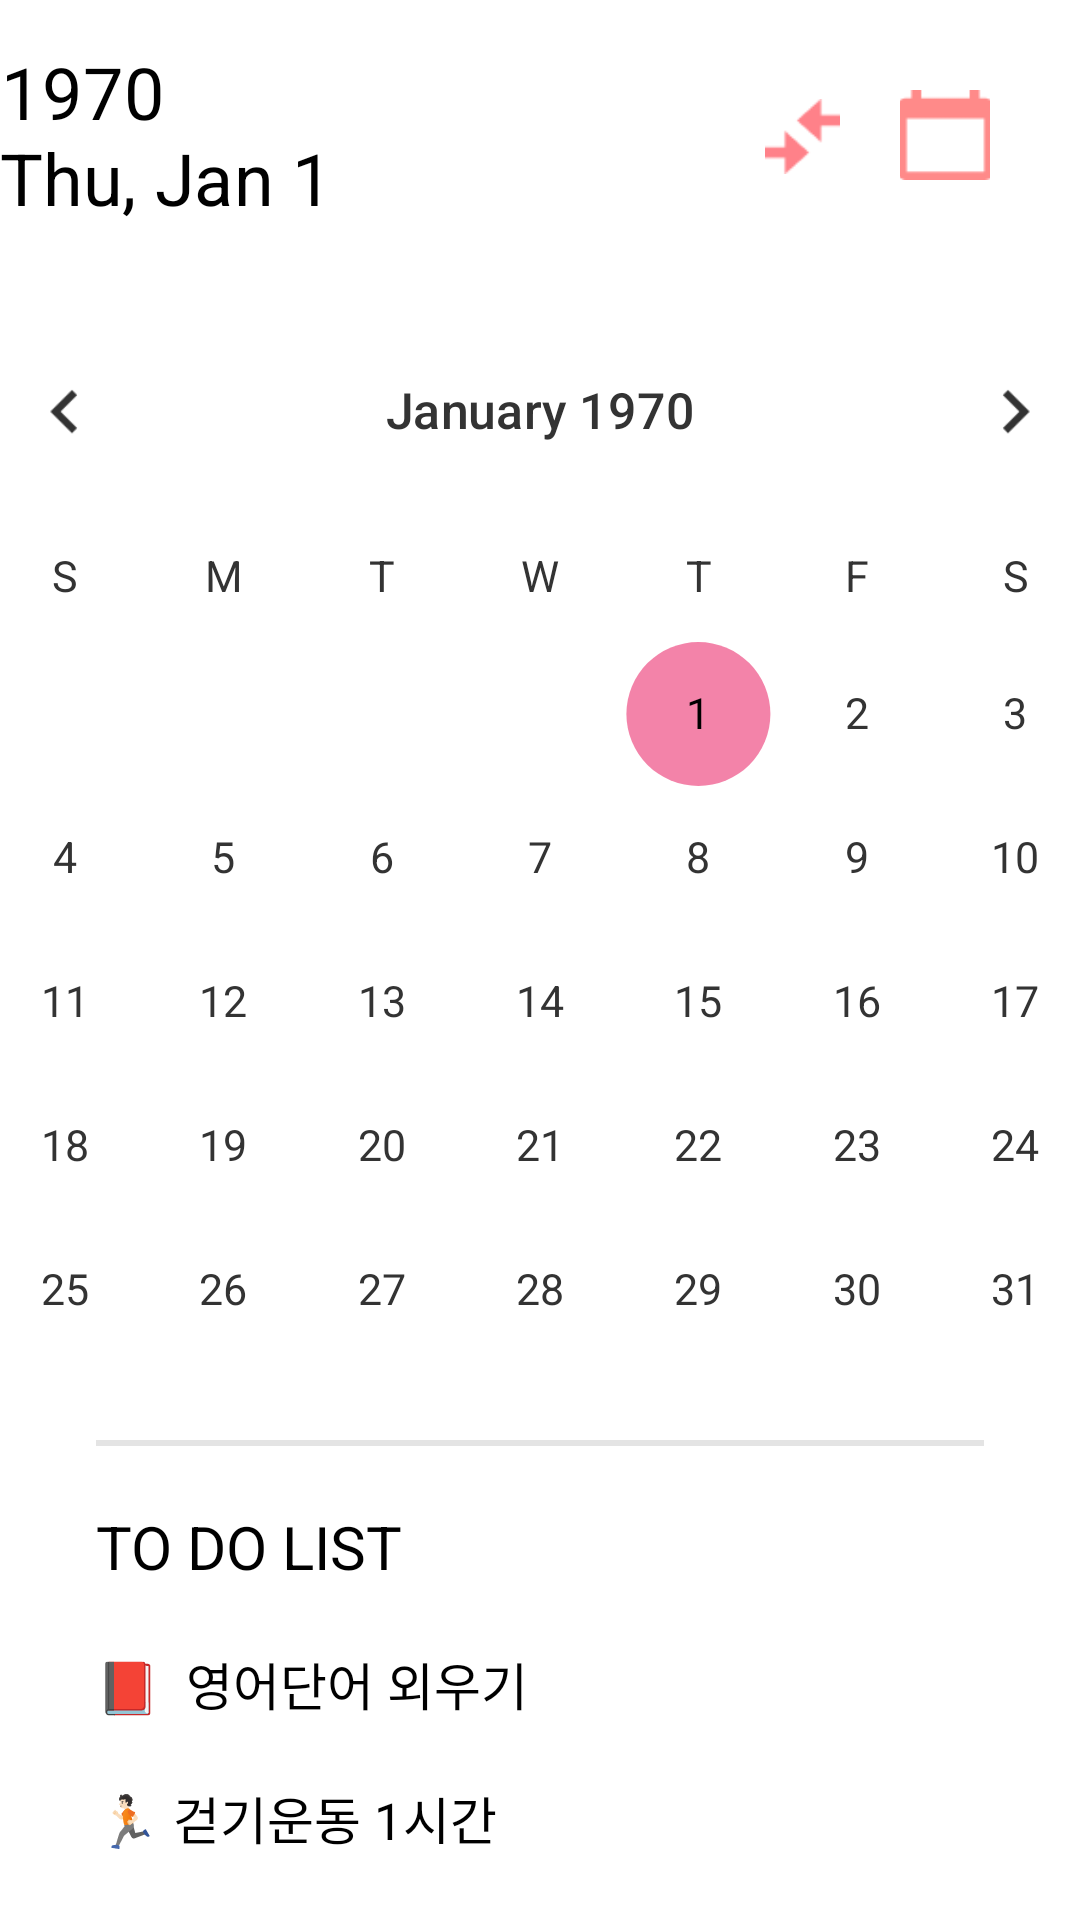

Named icons in this screenshot (1080px×1920px) and their centers, (x=x, y=y):
calendar: (x=945, y=135)
week change: (x=802, y=136)
